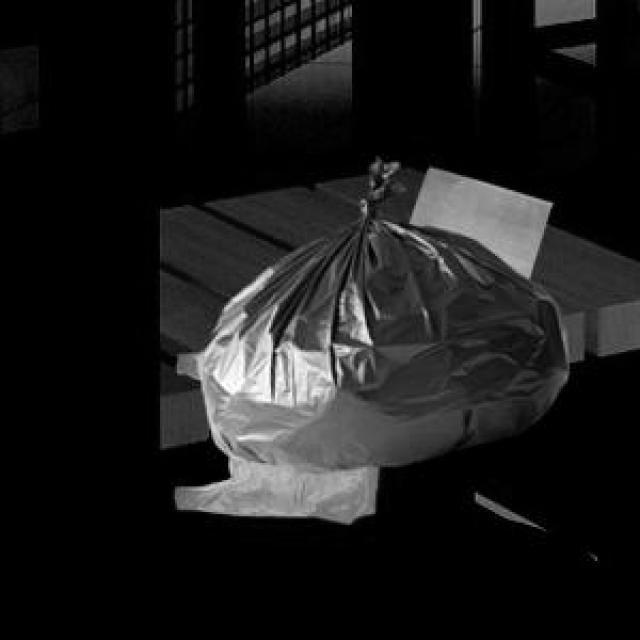miscellaneous trash: (194, 156, 565, 467)
paper: (405, 164, 548, 275)
